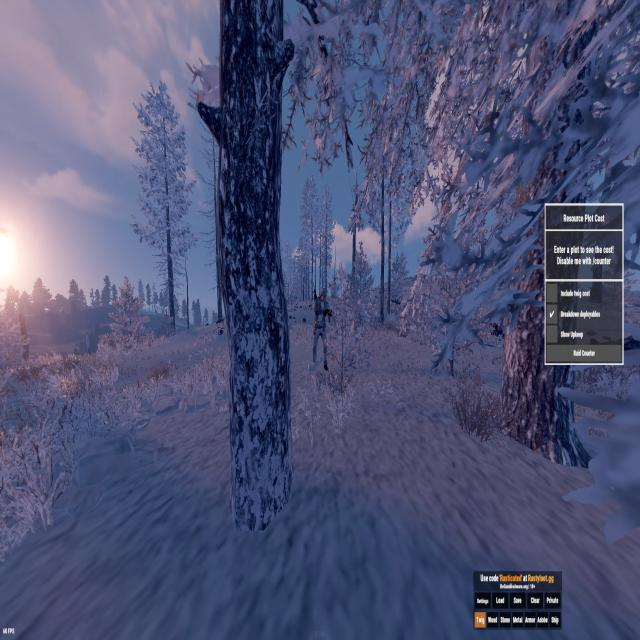Player: (312, 282, 332, 375)
